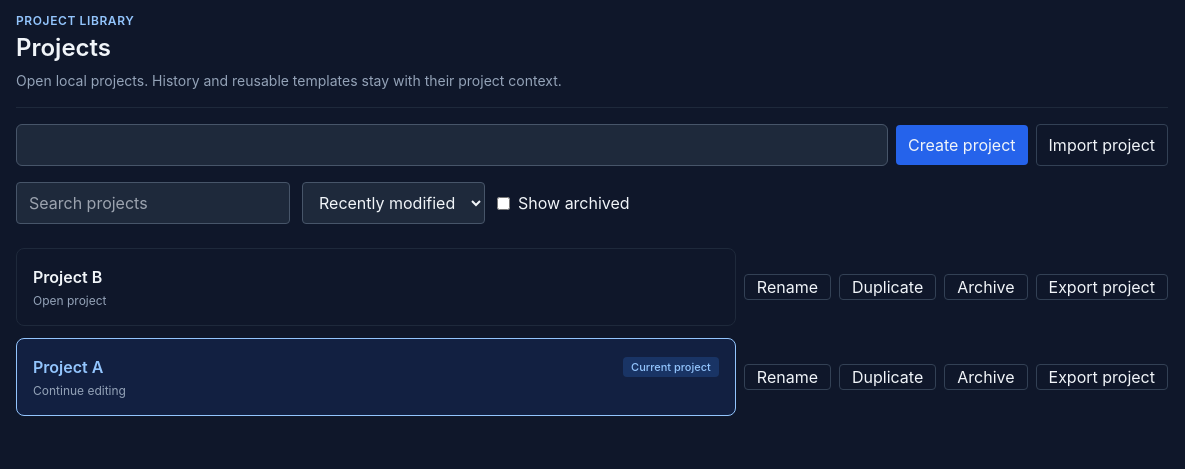
ProjectsPage › keeps the current project when saving its document fails
Click the button "Project B Open project" at (68, 277), box top-left (16, 248), bottom-right (736, 326)
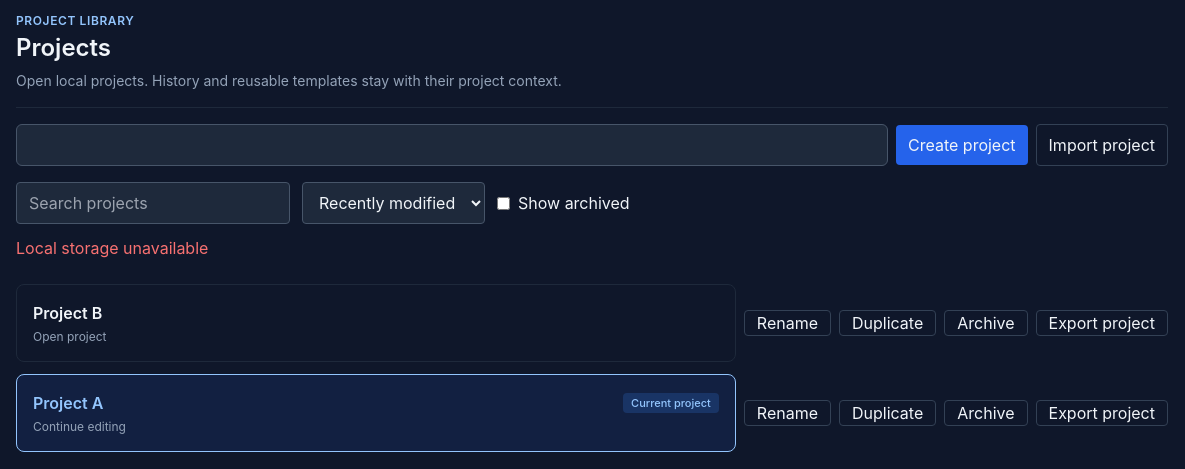
Expected: the message reads "Local storage unavailable", top-left (16, 238), bottom-right (208, 258)
